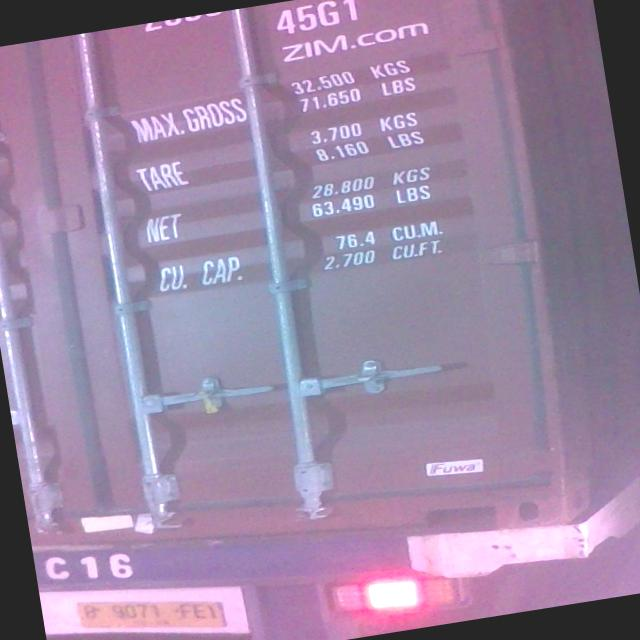seal: (193, 378, 229, 419)
